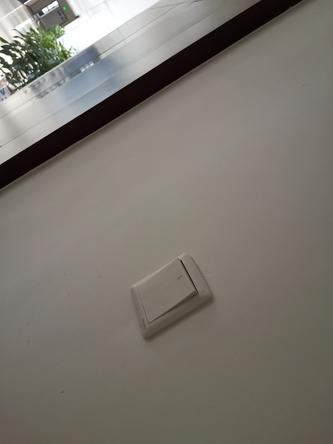switch: (132, 257, 199, 326)
